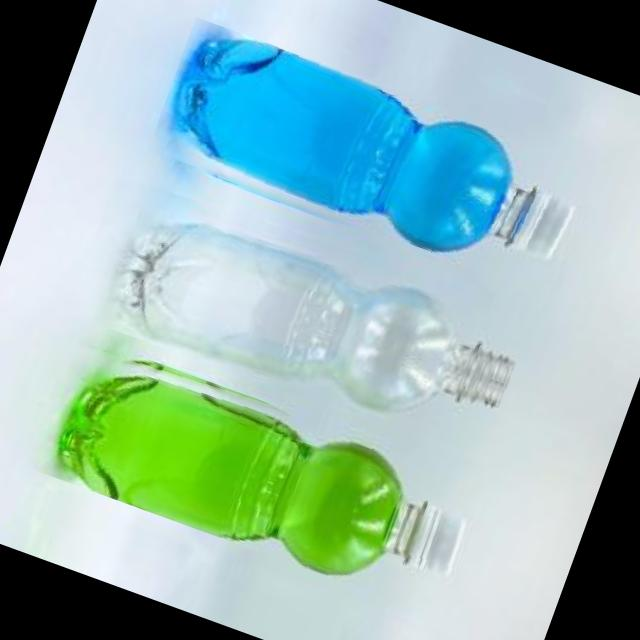plastic bottle: (66, 160, 557, 472), (22, 322, 494, 618), (141, 17, 607, 315)
